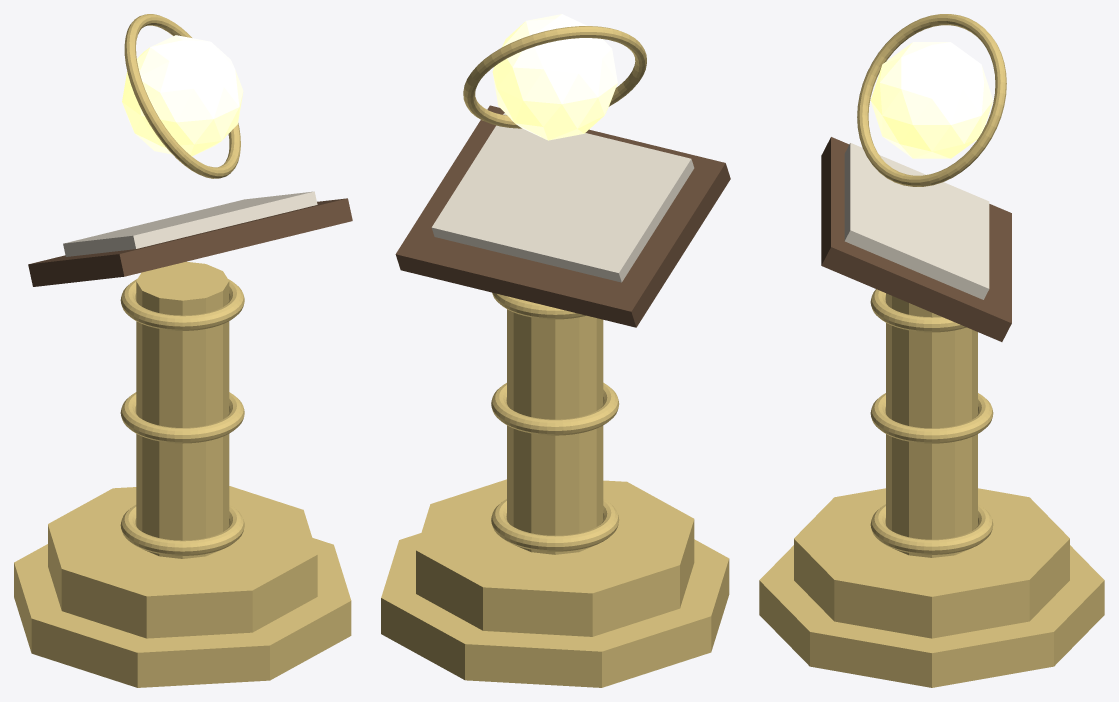
Rendered from archival_lectern.glb.
The picture shows the model from 3 angles, left to right: view 1: azimuth 30°, elevation 25°; view 2: azimuth 150°, elevation 25°; view 3: azimuth 270°, elevation 25°; orthographic projection. The views are drawn at different scales.
Visible parts, largest first — view 1: Cylinder.001, Cylinder.002, Cylinder, StarlightOrb, Cube, Cube.001, Torus.003, Torus.001, Torus.002, Torus; view 2: Cylinder.001, Cube.001, Cylinder, Cylinder.002, Cube, StarlightOrb, Torus.003, Torus.001, Torus, Torus.002; view 3: Cylinder.001, Cylinder, Cylinder.002, Cube.001, Cube, StarlightOrb, Torus.003, Torus, Torus.001, Torus.002.
Part boxes in pixels (x1,y1,x2,y2): Cylinder.001: (48,486,317,638); Cylinder.002: (136,261,229,558); Cylinder: (14,538,351,687); StarlightOrb: (122,35,243,156); Cube: (28,198,352,286); Cube.001: (63,191,317,256); Torus.003: (124,14,240,178); Torus.001: (120,392,244,443); Torus.002: (120,279,244,330); Torus: (120,505,244,555); Cylinder.001: (416,479,694,636); Cube.001: (431,113,694,282); Cylinder: (381,533,729,687); Cylinder.002: (507,309,603,554); Cube: (395,105,730,327); StarlightOrb: (492,14,617,140); Torus.003: (463,26,646,128); Torus.001: (491,382,619,435); Torus: (491,499,619,551); Torus.002: (492,292,585,319); Cylinder.001: (794,488,1069,638); Cylinder: (759,545,1104,687); Cylinder.002: (886,293,977,557); Cube.001: (844,143,989,299); Cube: (821,137,1011,341); StarlightOrb: (870,42,993,158); Torus.003: (857,14,1006,186); Torus: (870,504,993,554); Torus.001: (870,393,993,443); Torus.002: (870,289,966,332).
Bounding box in the file's own units: 0.9 × 1.67 × 0.9.
